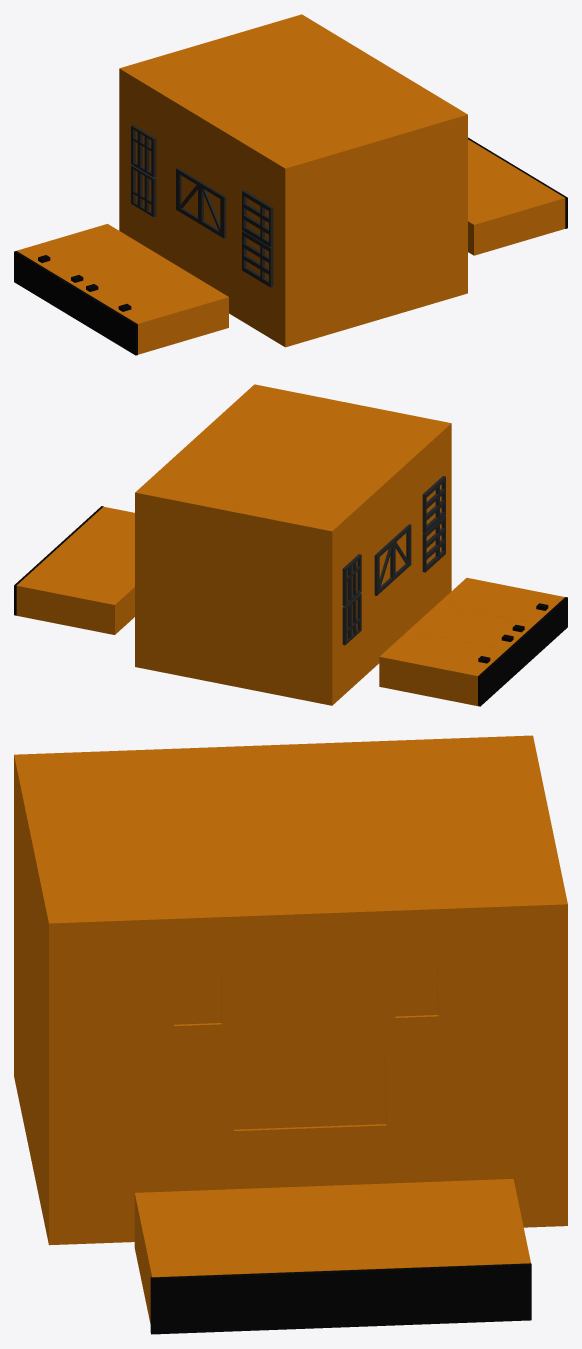
File: Nuti_위성.fbx
The picture shows the model from 3 angles, top to bottom: view 1: azimuth 30°, elevation 25°; view 2: azimuth 150°, elevation 25°; view 3: azimuth 270°, elevation 25°; orthographic projection. The views are drawn at different scales.
Parts seen in each view (by area): view 1: 위성, 위성.001, 위성.004, 위성.002, 위성.003, 위성.005; view 2: 위성, 위성.003, 위성.006, 위성.001, 위성.002, 위성.005, 위성.004; view 3: 위성, 위성.004, 위성.006, 위성.005.
Boxes of the visible parts, left/top/right/bottom form: 위성: left=119, top=14, right=467, bottom=347; 위성.001: left=95, top=272, right=228, bottom=355; 위성.004: left=468, top=173, right=567, bottom=255; 위성.002: left=54, top=248, right=187, bottom=330; 위성.003: left=14, top=224, right=147, bottom=306; 위성.005: left=468, top=148, right=526, bottom=190; 위성: left=135, top=384, right=451, bottom=705; 위성.003: left=379, top=630, right=509, bottom=706; 위성.006: left=14, top=559, right=134, bottom=634; 위성.001: left=438, top=578, right=567, bottom=653; 위성.002: left=409, top=604, right=538, bottom=679; 위성.005: left=43, top=532, right=134, bottom=576; 위성.004: left=72, top=506, right=134, bottom=544; 위성: left=14, top=735, right=567, bottom=1245; 위성.004: left=134, top=1188, right=278, bottom=1334; 위성.006: left=387, top=1179, right=531, bottom=1324; 위성.005: left=261, top=1183, right=404, bottom=1329.
Size of the model in its own units: 186 by 105 by 67.48.
